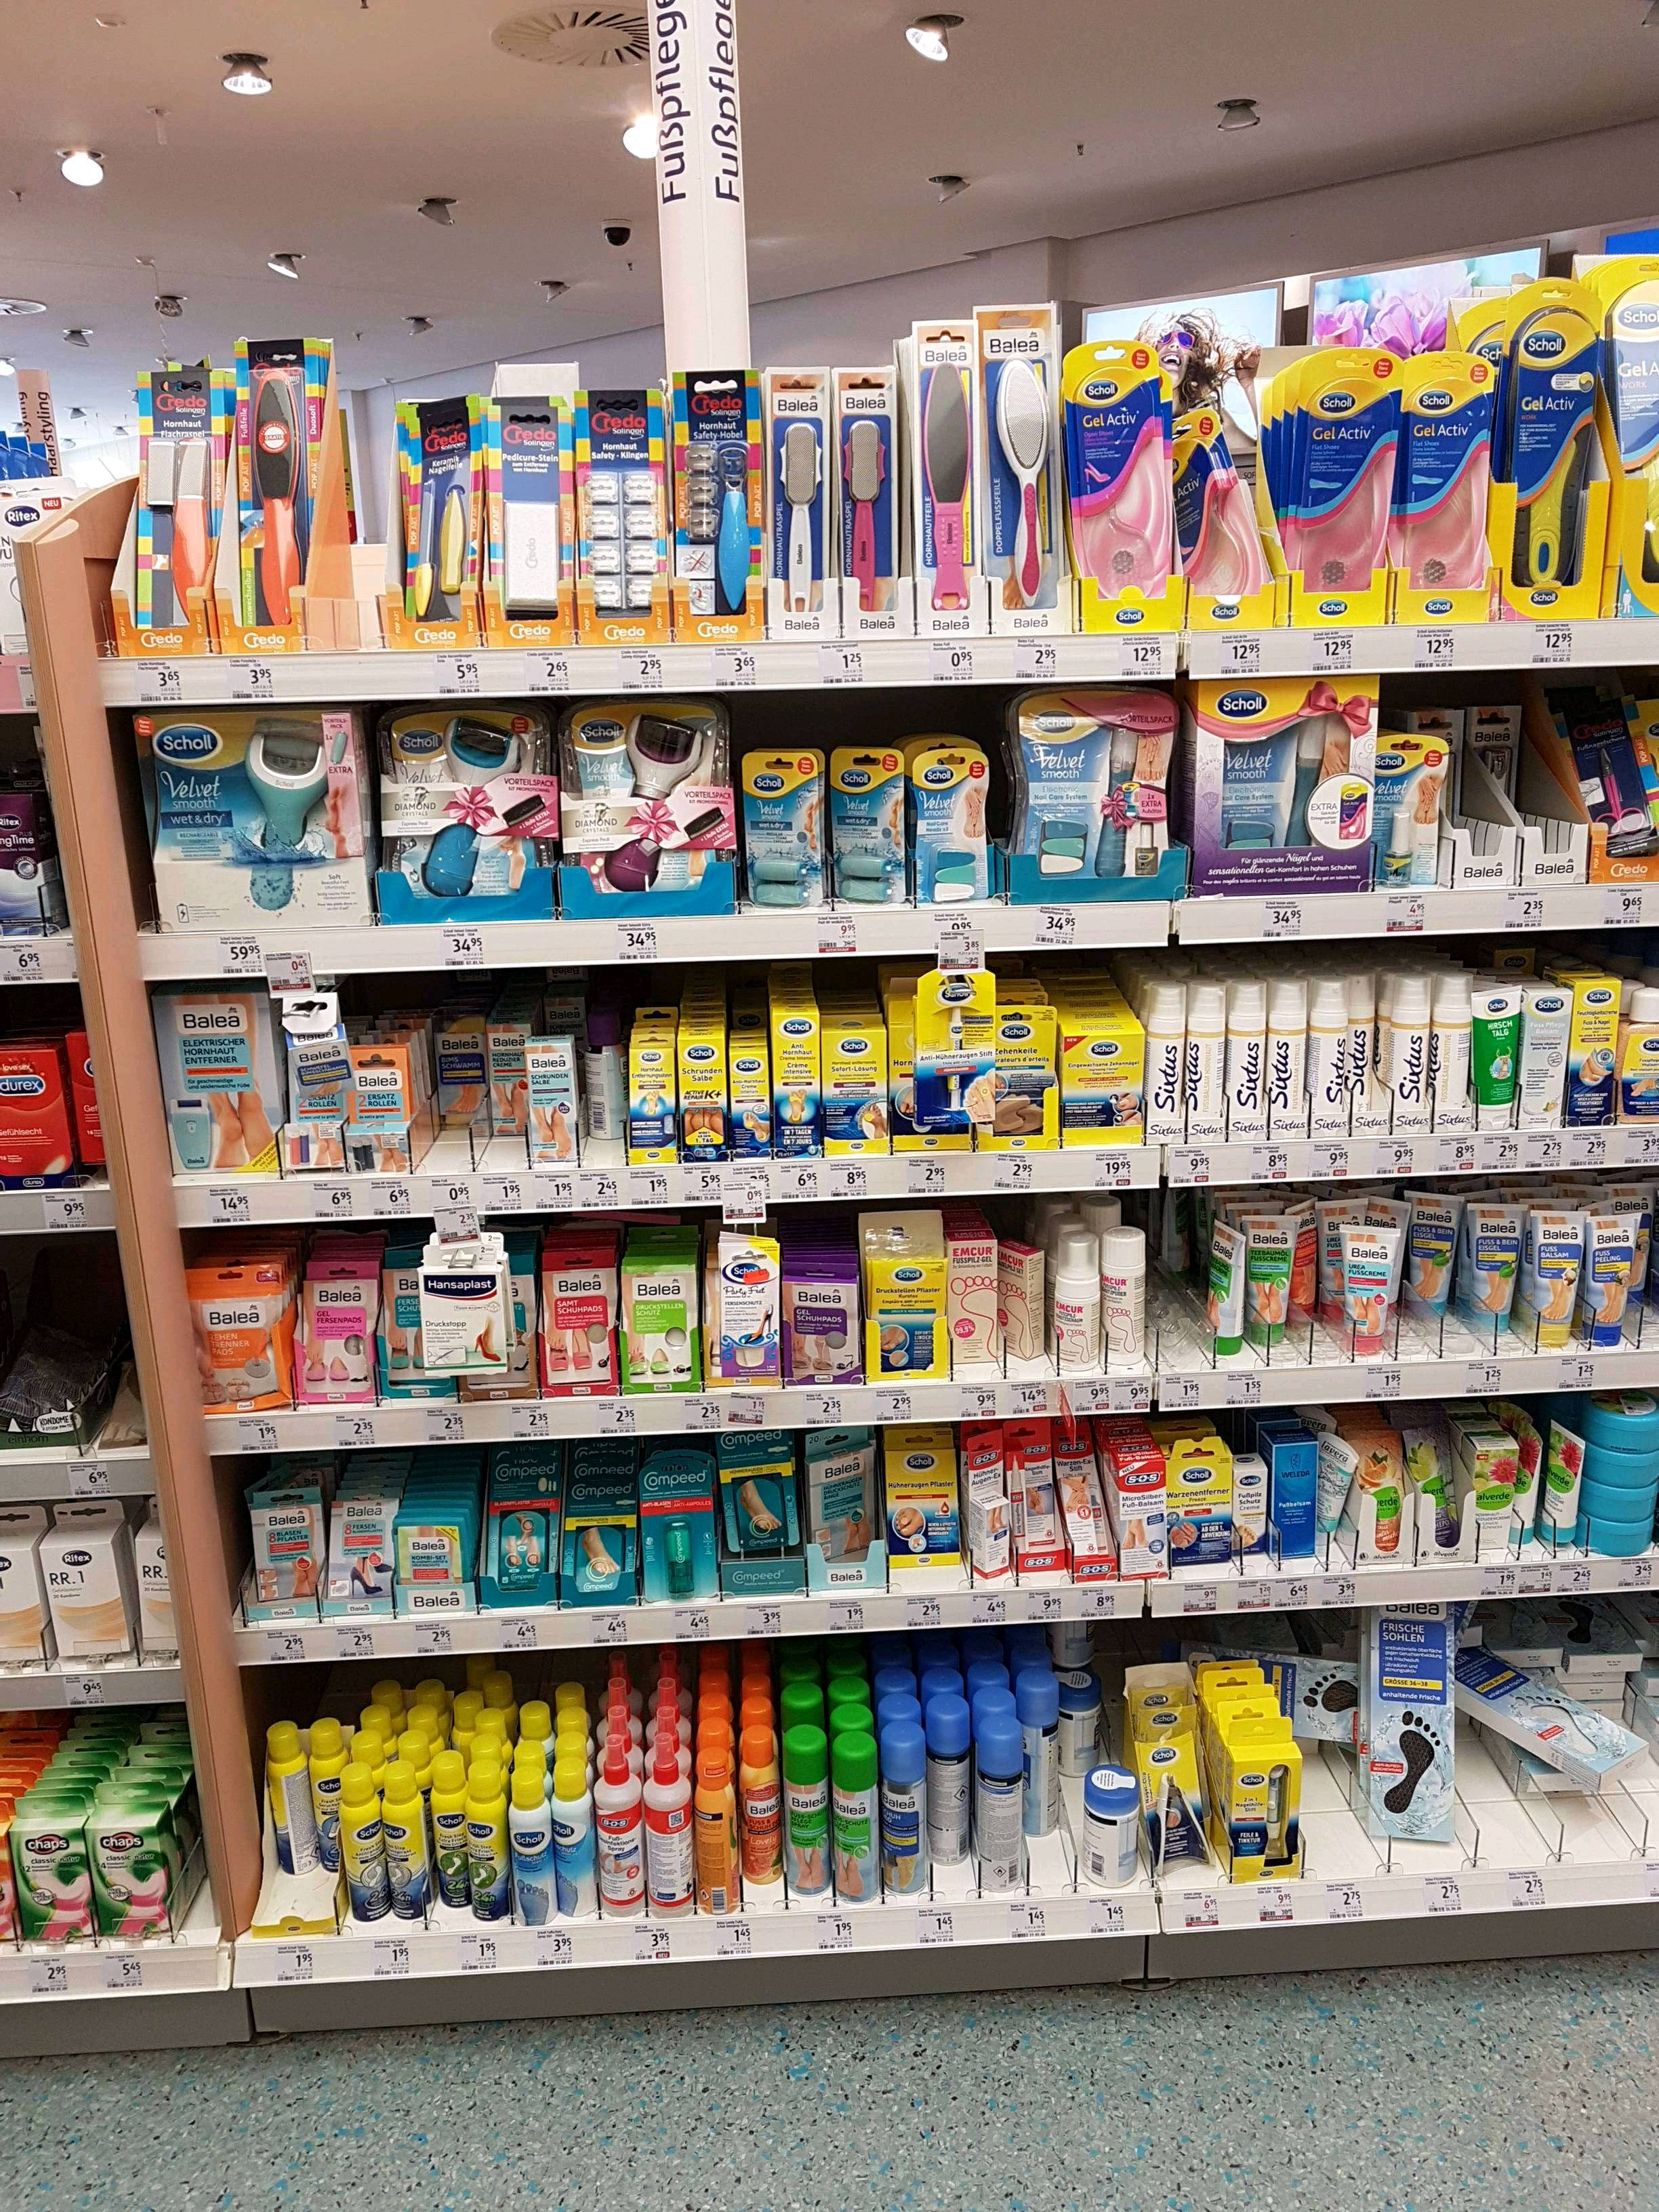Misplacement: (582, 1010, 626, 1167)
